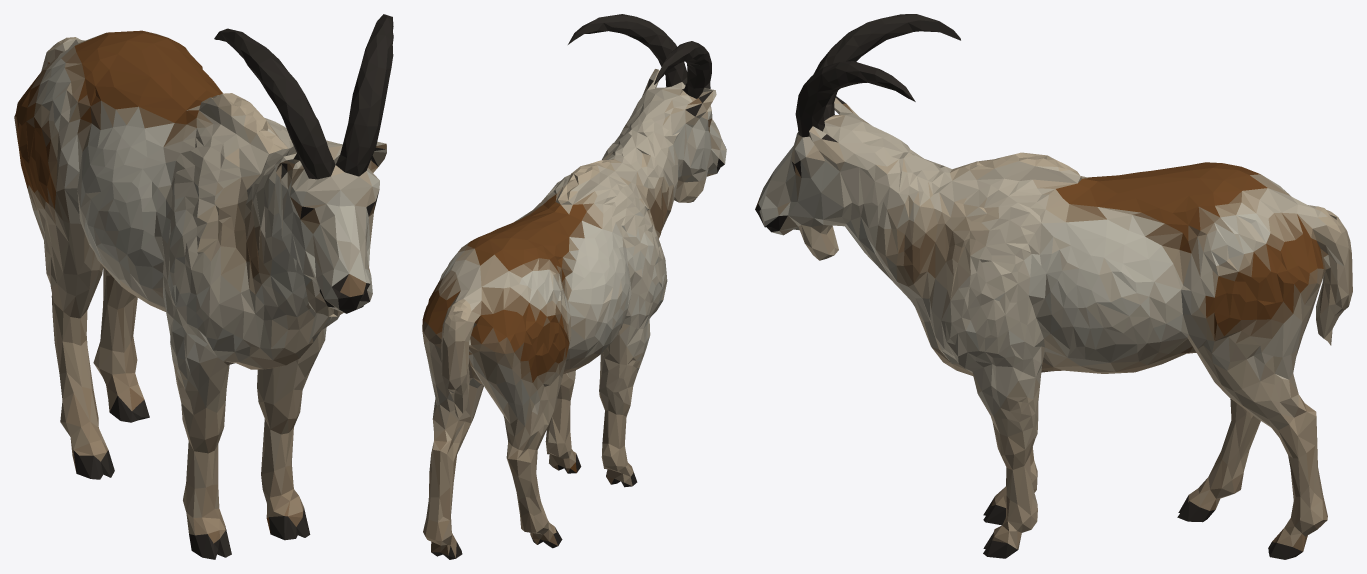
File: oreamnos_americanus.glb
3 views of the same model, side by side, from view 1: azimuth 30°, elevation 25°; view 2: azimuth 150°, elevation 25°; view 3: azimuth 270°, elevation 25° (orthographic). The views are drawn at different scales.
Visible parts, largest first — view 1: lod0; view 2: lod0; view 3: lod0.
Boxes of the visible parts, x1,y1,x2,y2 form: lod0: (14,14,393,559); lod0: (422,14,726,559); lod0: (755,14,1352,559).
Size of what is drawn, in the model's own units: 0.3405 by 0.9906 by 1.08.
